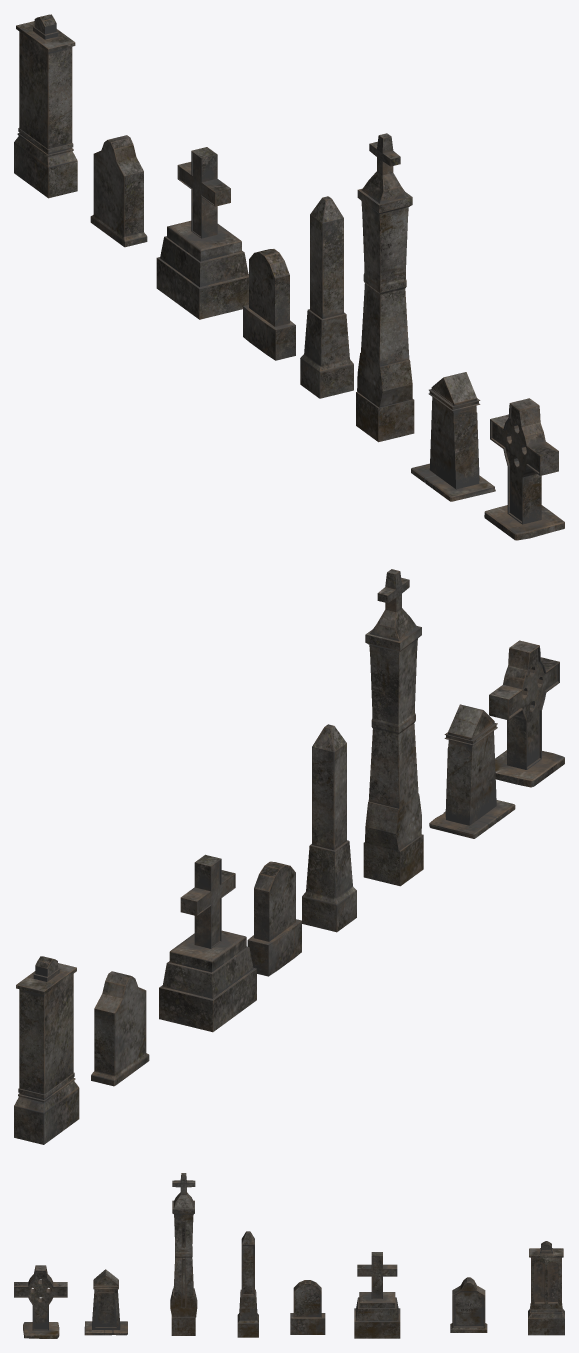
File: graves.gltf
The picture shows the model from 3 angles, top to bottom: view 1: azimuth 30°, elevation 25°; view 2: azimuth 150°, elevation 25°; view 3: azimuth 270°, elevation 25°; orthographic projection. The views are drawn at different scales.
Visible parts, largest first — view 1: gravestone01, gravestone04, gravestone06, gravestone02, gravestone07, gravestone08, gravestone05, gravestone03; view 2: gravestone01, gravestone04, gravestone06, gravestone02, gravestone07, gravestone08, gravestone05, gravestone03; view 3: gravestone01, gravestone06, gravestone04, gravestone07, gravestone08, gravestone02, gravestone05, gravestone03.
Boxes of the visible parts, bbox=[...] form: gravestone01: bbox=[356, 133, 414, 442]; gravestone04: bbox=[156, 147, 248, 319]; gravestone06: bbox=[14, 14, 77, 198]; gravestone02: bbox=[300, 196, 353, 398]; gravestone07: bbox=[484, 398, 564, 540]; gravestone08: bbox=[411, 372, 495, 501]; gravestone05: bbox=[90, 135, 147, 247]; gravestone03: bbox=[243, 249, 295, 360]; gravestone01: bbox=[363, 569, 423, 886]; gravestone04: bbox=[159, 854, 256, 1032]; gravestone06: bbox=[14, 956, 79, 1144]; gravestone02: bbox=[302, 724, 356, 932]; gravestone07: bbox=[489, 640, 564, 787]; gravestone08: bbox=[429, 704, 515, 838]; gravestone05: bbox=[91, 971, 149, 1086]; gravestone03: bbox=[247, 861, 301, 976]; gravestone01: bbox=[170, 1173, 197, 1335]; gravestone06: bbox=[528, 1241, 564, 1335]; gravestone04: bbox=[354, 1252, 400, 1338]; gravestone07: bbox=[14, 1265, 67, 1338]; gravestone08: bbox=[84, 1269, 127, 1335]; gravestone02: bbox=[237, 1231, 258, 1337]; gravestone05: bbox=[450, 1277, 487, 1332]; gravestone03: bbox=[290, 1280, 325, 1334].
Bounding box in the file's own units: 3.46 × 16.19 × 50.98.
